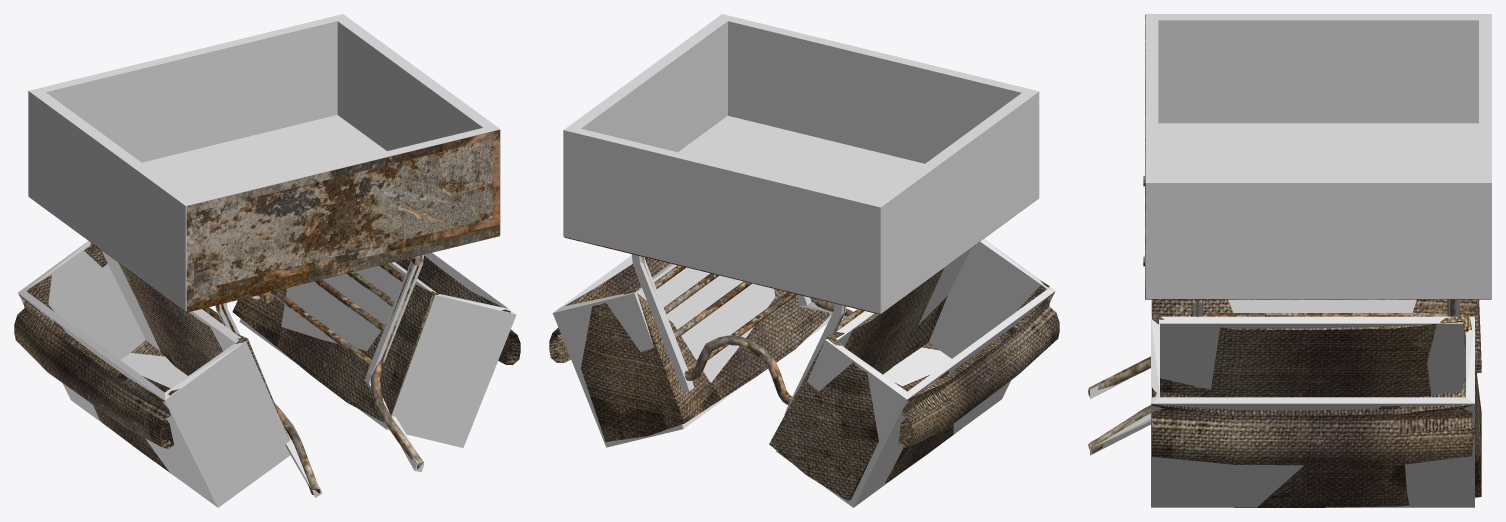
File: MotoRack.glb
The picture shows the model from 3 angles, left to right: view 1: azimuth 30°, elevation 25°; view 2: azimuth 150°, elevation 25°; view 3: azimuth 270°, elevation 25°; orthographic projection. The views are drawn at different scales.
Parts seen in each view (by area): view 1: Rack, Bags, COL_Rack_2, COL_Rack_1, COL_Rack_14, COL_Rack_9, COL_Rack_3, COL_Rack_0, COL_Rack_12, COL_Rack_6, COL_Rack_13, COL_Rack_4 (+4 smaller); view 2: Bags, COL_Rack_2, COL_Rack_4, COL_Rack_1, COL_Rack_3, COL_Rack_0, COL_Rack_14, COL_Rack_6, Rack, COL_Rack_12, COL_Rack_7, COL_Rack_13 (+4 smaller); view 3: Bags, COL_Rack_3, COL_Rack_1, COL_Rack_0, COL_Rack_8, COL_Rack_6, Rack, COL_Rack_11, COL_Rack_4, COL_Rack_2, COL_Rack_9, COL_Rack_7 (+1 smaller).
Boxes of the visible parts, x1,y1,x2,y2 form: Rack: (29, 129, 499, 494); Bags: (14, 243, 520, 473); COL_Rack_2: (29, 14, 342, 162); COL_Rack_1: (28, 91, 190, 311); COL_Rack_14: (164, 341, 290, 507); COL_Rack_9: (387, 294, 516, 447); COL_Rack_3: (337, 14, 500, 150); COL_Rack_0: (142, 115, 386, 198); COL_Rack_12: (18, 241, 145, 359); COL_Rack_6: (239, 262, 436, 429); COL_Rack_13: (18, 291, 217, 507); COL_Rack_4: (185, 127, 500, 311); Bags: (549, 257, 1059, 500); COL_Rack_2: (563, 128, 880, 313); COL_Rack_4: (722, 14, 1038, 163); COL_Rack_1: (875, 91, 1039, 313); COL_Rack_3: (564, 14, 727, 152); COL_Rack_0: (678, 116, 924, 200); COL_Rack_14: (929, 239, 1054, 358); COL_Rack_6: (633, 263, 830, 428); Rack: (564, 198, 1038, 404); COL_Rack_12: (776, 340, 907, 507); COL_Rack_7: (552, 292, 683, 447); COL_Rack_13: (854, 289, 1055, 507); Bags: (1152, 299, 1481, 507); COL_Rack_3: (1145, 176, 1491, 298); COL_Rack_1: (1146, 14, 1491, 123); COL_Rack_0: (1158, 123, 1478, 176); COL_Rack_8: (1151, 397, 1474, 507); COL_Rack_6: (1151, 316, 1474, 395); Rack: (1088, 14, 1491, 453); COL_Rack_11: (1151, 299, 1416, 316); COL_Rack_4: (1145, 14, 1158, 182); COL_Rack_2: (1479, 14, 1491, 182); COL_Rack_9: (1151, 317, 1159, 403); COL_Rack_7: (1466, 317, 1474, 403).
Bounding box in the file's own units: 0.8675 × 0.6951 × 0.7401.
2 materials, 2 textured.
